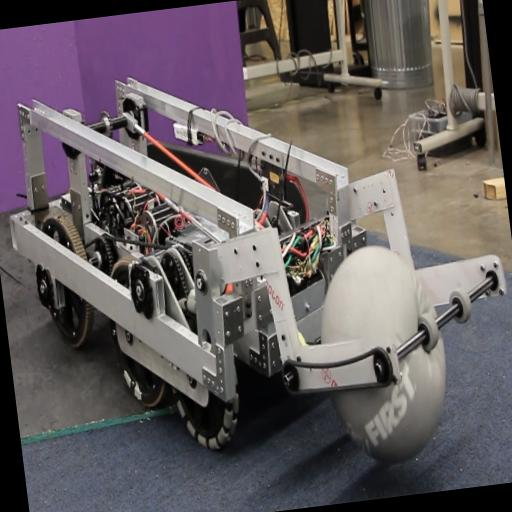robot: (0, 26, 512, 512)
